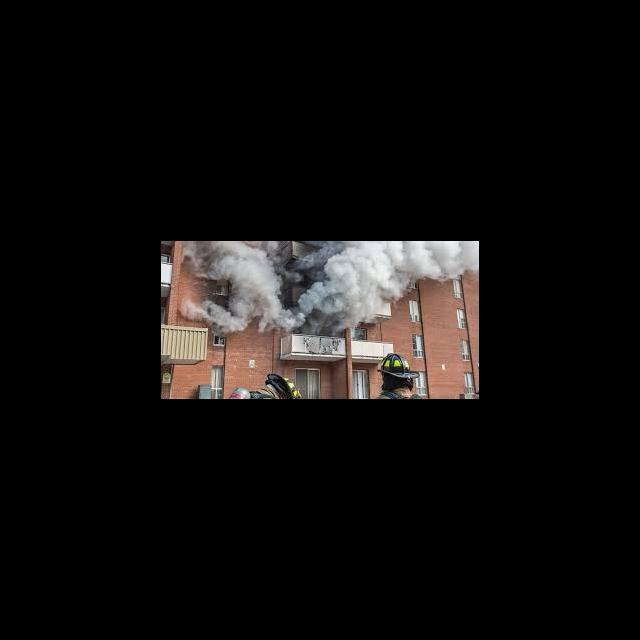Smoke: (182, 241, 479, 333)
